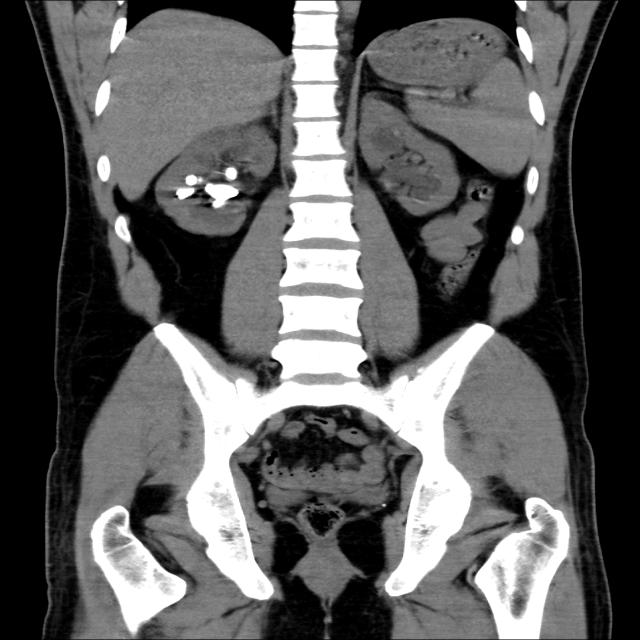kidneystone: (204, 184, 239, 209), (175, 188, 194, 199), (226, 166, 238, 180), (186, 175, 198, 186)
